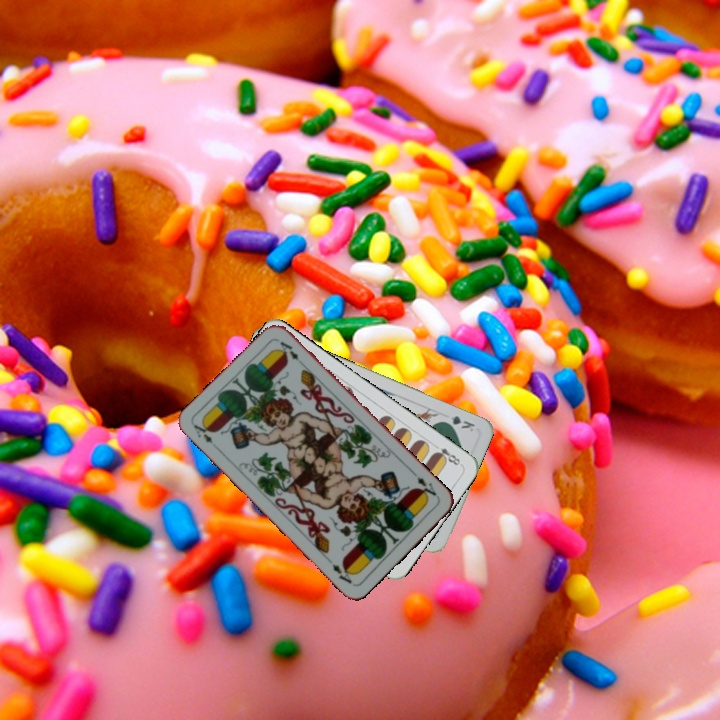E8: (430, 440, 464, 468)
EA: (190, 418, 222, 452), (413, 473, 441, 502)
GK: (438, 411, 477, 434)
